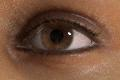eye: (42, 24, 73, 49)
